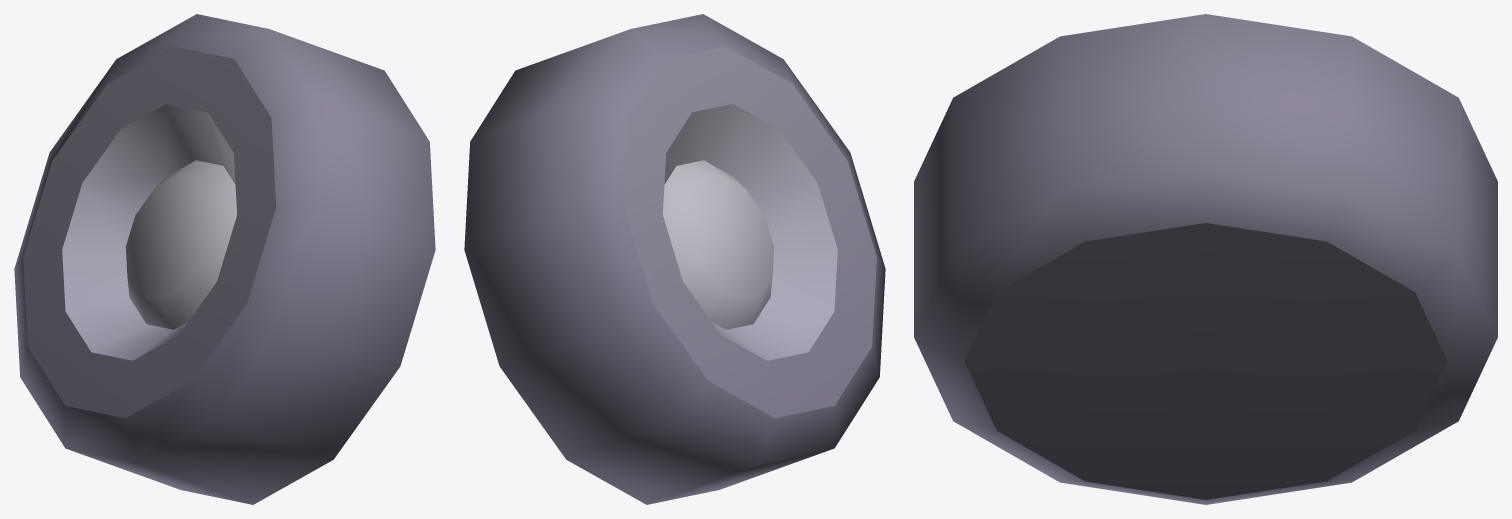
Rendered from car-wheel-diagonal_0.glb.
The picture shows the model from 3 angles, left to right: view 1: azimuth 30°, elevation 25°; view 2: azimuth 150°, elevation 25°; view 3: azimuth 270°, elevation 25°; orthographic projection. The views are drawn at different scales.
Parts seen in each view (by area): view 1: car-wheel-diagonal; view 2: car-wheel-diagonal; view 3: car-wheel-diagonal.
Boxes of the visible parts, bbox=[...] form: car-wheel-diagonal: bbox=[14, 14, 435, 504]; car-wheel-diagonal: bbox=[464, 14, 885, 504]; car-wheel-diagonal: bbox=[914, 14, 1497, 504].
Size of the model in its own units: 0.5121 by 0.6731 by 0.654.
